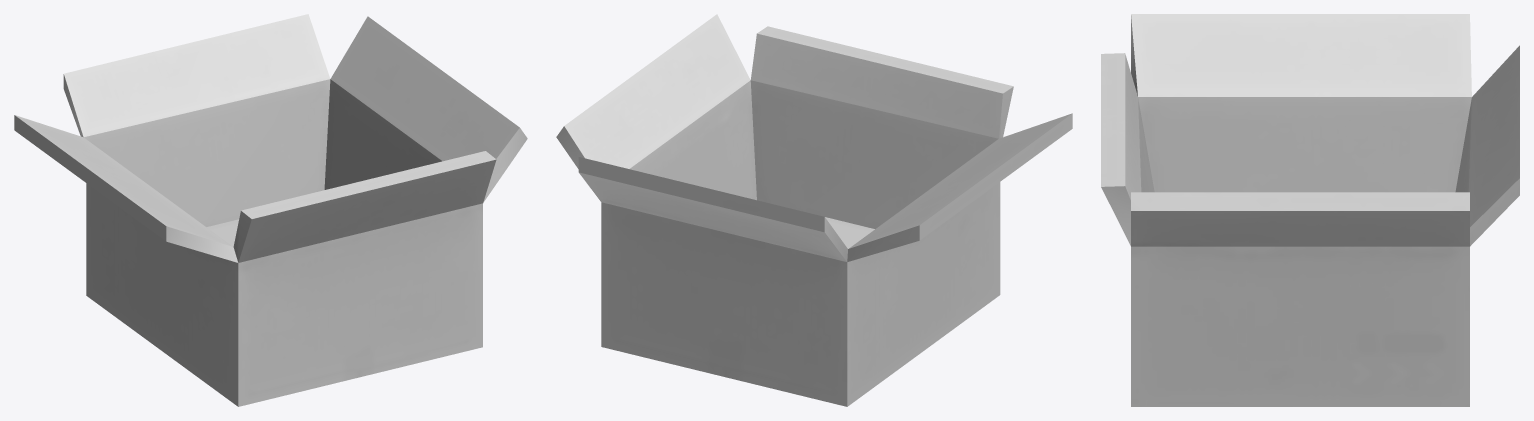
The model's file is Pfb_PaperBox__23.fbx.
3 renders of one model, left to right at view 1: azimuth 30°, elevation 25°; view 2: azimuth 150°, elevation 25°; view 3: azimuth 270°, elevation 25°, orthographic. The views are drawn at different scales.
Visible parts, largest first — view 1: Mat_PaperBox_01_02; view 2: Mat_PaperBox_01_02; view 3: Mat_PaperBox_01_02.
Boxes of the visible parts, box(x1,y1,x2,y2) form: Mat_PaperBox_01_02: box(14, 14, 527, 406); Mat_PaperBox_01_02: box(556, 14, 1072, 406); Mat_PaperBox_01_02: box(1101, 14, 1519, 406).
Size of the model in its own units: 1.46 by 0.811 by 1.31.
1 material, 1 textured.
